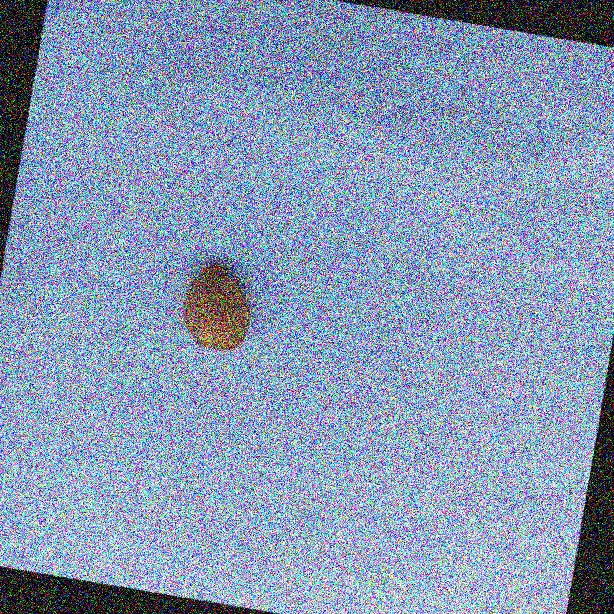grade2: (174, 255, 265, 359)
